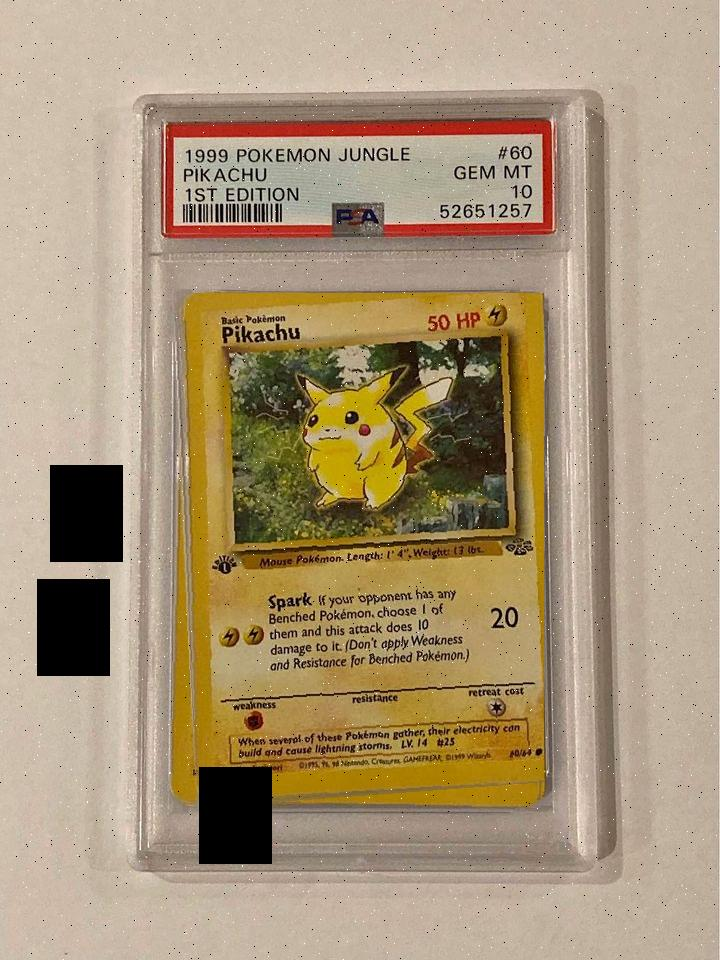card: (184, 293, 544, 802)
